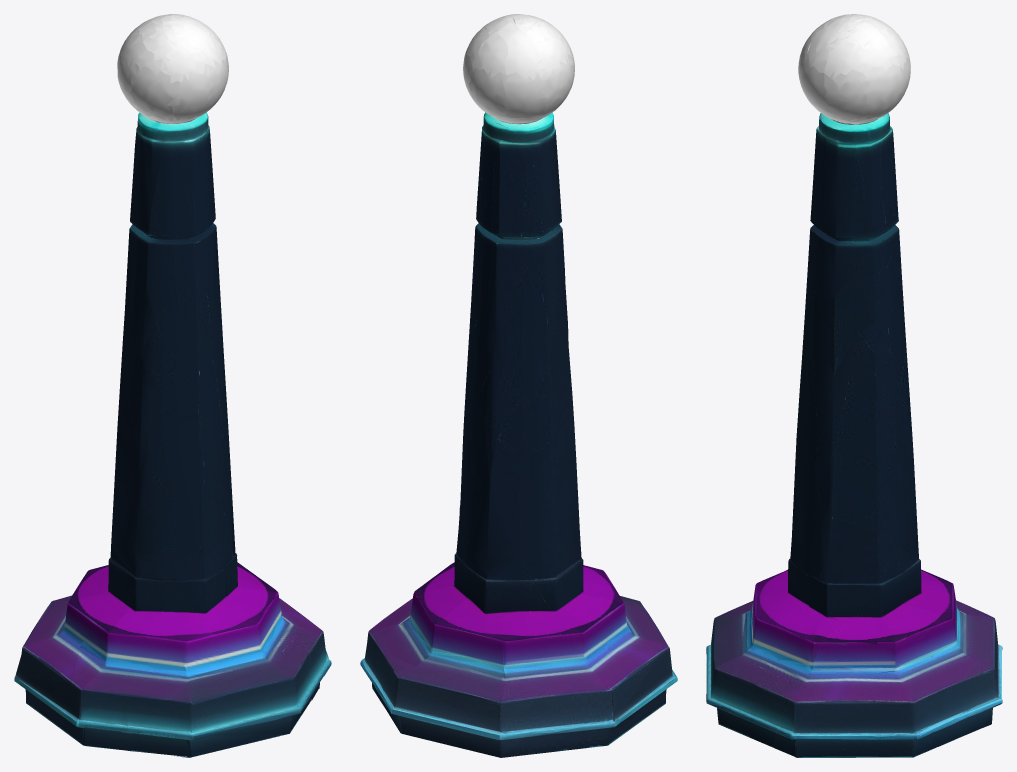
Rendered from neon-pylon.glb.
The picture shows the model from 3 angles, left to right: view 1: azimuth 30°, elevation 25°; view 2: azimuth 150°, elevation 25°; view 3: azimuth 270°, elevation 25°; orthographic projection.
Parts seen in each view (by area): view 1: mesh_node; view 2: mesh_node; view 3: mesh_node.
Boxes of the visible parts, x1=… form: mesh_node: x1=14, y1=14, x2=331, y2=757; mesh_node: x1=360, y1=14, x2=677, y2=757; mesh_node: x1=706, y1=14, x2=1002, y2=757.
Bounding box in the file's own units: 0.7507 × 1.9 × 0.751.
1 material, 1 textured.
